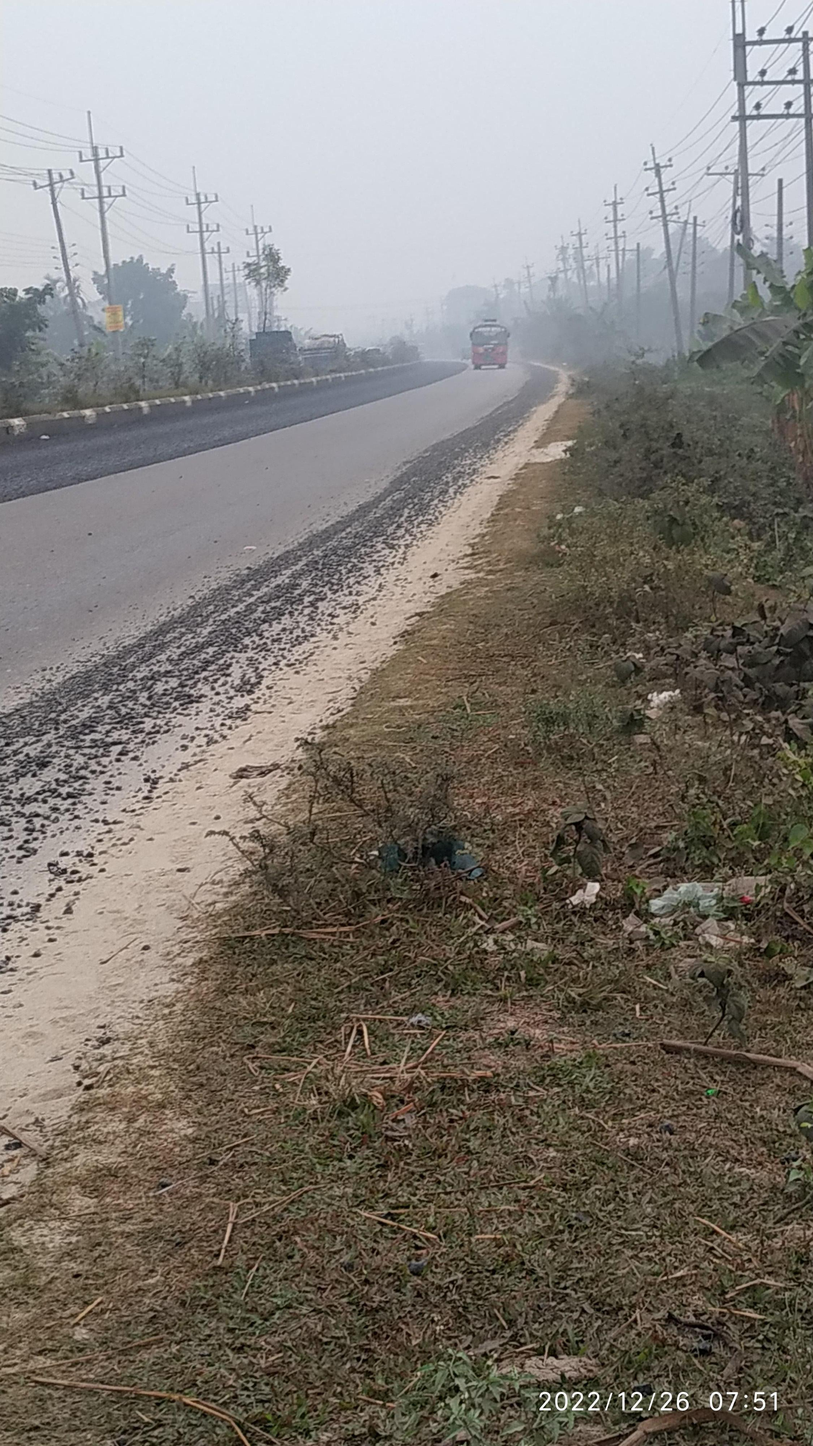Bus: (459, 312, 521, 384)
